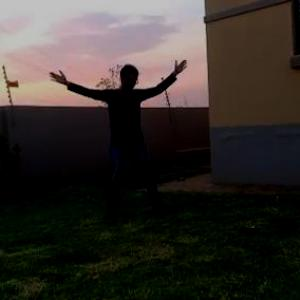takeoff: (38, 40, 186, 214)
